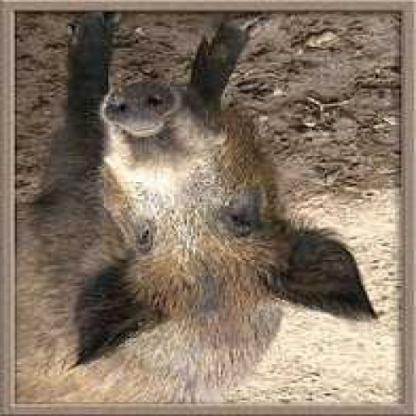boar: (0, 7, 373, 416)
